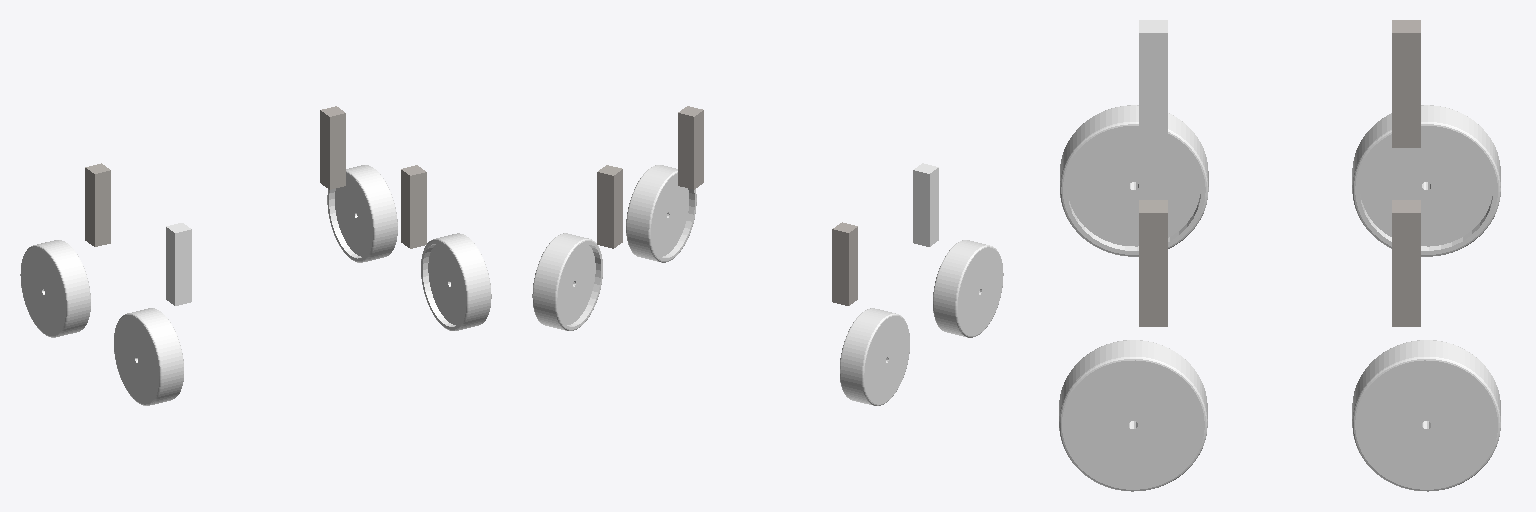
robot.urdf — Assembly1:
<?xml version="1.0" encoding="utf-8"?>
<!-- This URDF was automatically created by SolidWorks to URDF Exporter! Originally created by [author] ([email redacted]) 
     Commit Version: 1.5.1-0-g916b5db  Build Version: 1.5.7152.31018
     For more information, please see http://wiki.ros.org/sw_urdf_exporter -->
<robot
  name="Assembly1">
  <link
    name="base_link">
    <inertial>
      <origin
        xyz="-0.100597257345596 -0.129757044474915 0.0549310842293665"
        rpy="0 0 0" />
      <mass
        value="6.58740289372305" />
      <inertia
        ixx="0.0225587082732327"
        ixy="8.13913545593294E-07"
        ixz="3.26941188513551E-07"
        iyy="0.0144068288002428"
        iyz="-1.53624510966807E-05"
        izz="0.0230488122879631" />
    </inertial>
    <visual>
      <origin
        xyz="0 0 0"
        rpy="0 0 0" />
      <geometry>
        <mesh
          filename="package://Assembly1/meshes/base_link.STL" />
      </geometry>
      <material
        name="">
        <color
          rgba="0.752941176470588 0.752941176470588 0.752941176470588 1" />
      </material>
    </visual>
    <collision>
      <origin
        xyz="0 0 0"
        rpy="0 0 0" />
      <geometry>
        <mesh
          filename="package://Assembly1/meshes/base_link.STL" />
      </geometry>
    </collision>
  </link>
  <link
    name="RFW">
    <inertial>
      <origin
        xyz="0.017684275425927 0 0"
        rpy="0 0 0" />
      <mass
        value="0.193585420779862" />
      <inertia
        ixx="0.000253081141332253"
        ixy="1.25565046615467E-23"
        ixz="5.48767614514601E-21"
        iyy="0.000136818598566516"
        iyz="4.2351647362715E-22"
        izz="0.000136818598566517" />
    </inertial>
    <visual>
      <origin
        xyz="0 0 0"
        rpy="0 0 0" />
      <geometry>
        <mesh
          filename="package://Assembly1/meshes/RFW.STL" />
      </geometry>
      <material
        name="">
        <color
          rgba="1 1 1 1" />
      </material>
    </visual>
    <collision>
      <origin
        xyz="0 0 0"
        rpy="0 0 0" />
      <geometry>
        <mesh
          filename="package://Assembly1/meshes/RFW.STL" />
      </geometry>
    </collision>
  </link>
  <joint
    name="RFW"
    type="continuous">
    <origin
      xyz="0.0717526295870665 -0.0213991318329796 -0.0348013967668192"
      rpy="1.60341860825238 0 0" />
    <parent
      link="base_link" />
    <child
      link="RFW" />
    <axis
      xyz="1 0 0" />
    <limit
      effort="3.1"
      velocity="7" />
  </joint>
  <link
    name="LFW">
    <inertial>
      <origin
        xyz="0.0176842754259272 4.85722573273506E-17 1.38777878078145E-17"
        rpy="0 0 0" />
      <mass
        value="0.193585420779862" />
      <inertia
        ixx="0.000253081141332254"
        ixy="2.77461999194458E-19"
        ixz="1.02934546112711E-19"
        iyy="0.000136818598566517"
        iyz="-1.01643953670516E-20"
        izz="0.000136818598566517" />
    </inertial>
    <visual>
      <origin
        xyz="0 0 0"
        rpy="0 0 0" />
      <geometry>
        <mesh
          filename="package://Assembly1/meshes/LFW.STL" />
      </geometry>
      <material
        name="">
        <color
          rgba="1 1 1 1" />
      </material>
    </visual>
    <collision>
      <origin
        xyz="0 0 0"
        rpy="0 0 0" />
      <geometry>
        <mesh
          filename="package://Assembly1/meshes/LFW.STL" />
      </geometry>
    </collision>
  </link>
  <joint
    name="LFW"
    type="continuous">
    <origin
      xyz="-0.271747370412951 -0.0213991318329767 -0.034802969642082"
      rpy="-0.39179641218951 0 3.14159265358979" />
    <parent
      link="base_link" />
    <child
      link="LFW" />
    <axis
      xyz="1 0 0" />
    <limit
      effort="3.1"
      velocity="7" />
  </joint>
  <link
    name="RBW">
    <inertial>
      <origin
        xyz="0.017684 -1.3878E-17 2.7756E-17"
        rpy="0 0 0" />
      <mass
        value="0.19359" />
      <inertia
        ixx="0.00025308"
        ixy="-2.9665E-22"
        ixz="5.6131E-21"
        iyy="0.00013682"
        iyz="-6.7763E-21"
        izz="0.00013682" />
    </inertial>
    <visual>
      <origin
        xyz="0 0 0"
        rpy="0 0 0" />
      <geometry>
        <mesh
          filename="package://Assembly1/meshes/RBW.STL" />
      </geometry>
      <material
        name="">
        <color
          rgba="1 1 1 1" />
      </material>
    </visual>
    <collision>
      <origin
        xyz="0 0 0"
        rpy="0 0 0" />
      <geometry>
        <mesh
          filename="package://Assembly1/meshes/RBW.STL" />
      </geometry>
    </collision>
  </link>
  <joint
    name="RBW"
    type="continuous">
    <origin
      xyz="0.0717526295870657 -0.218599131832979 -0.0348029696420729"
      rpy="1.20549109022013 0 0" />
    <parent
      link="base_link" />
    <child
      link="RBW" />
    <axis
      xyz="1 0 0" />
    <limit
      effort="3.1"
      velocity="7" />
  </joint>
  <link
    name="LBW">
    <inertial>
      <origin
        xyz="0.017684 0 0"
        rpy="0 0 0" />
      <mass
        value="0.19359" />
      <inertia
        ixx="0.00025308"
        ixy="1.711E-20"
        ixz="-3.2823E-21"
        iyy="0.00013682"
        iyz="-1.3553E-20"
        izz="0.00013682" />
    </inertial>
    <visual>
      <origin
        xyz="0 0 0"
        rpy="0 0 0" />
      <geometry>
        <mesh
          filename="package://Assembly1/meshes/LBW.STL" />
      </geometry>
      <material
        name="">
        <color
          rgba="1 1 1 1" />
      </material>
    </visual>
    <collision>
      <origin
        xyz="0 0 0"
        rpy="0 0 0" />
      <geometry>
        <mesh
          filename="package://Assembly1/meshes/LBW.STL" />
      </geometry>
    </collision>
  </link>
  <joint
    name="LBW"
    type="continuous">
    <origin
      xyz="-0.27175 -0.218 -0.034801"
      rpy="-0.3918 0 3.1416" />
    <parent
      link="base_link" />
    <child
      link="LBW" />
    <axis
      xyz="1 0 0" />
    <limit
      effort="3.1"
      velocity="7" />
  </joint>
  <link
    name="RFS">
    <inertial>
      <origin
        xyz="0 -6.9389E-17 -0.0425"
        rpy="0 0 0" />
      <mass
        value="0.2618" />
      <inertia
        ixx="0.00016635"
        ixy="2.1661E-22"
        ixz="2.5566E-20"
        iyy="0.00016635"
        iyz="-2.5289E-19"
        izz="1.7453E-05" />
    </inertial>
    <visual>
      <origin
        xyz="0 0 0"
        rpy="0 0 0" />
      <geometry>
        <mesh
          filename="package://Assembly1/meshes/RFS.STL" />
      </geometry>
      <material
        name="">
        <color
          rgba="0.77647 0.75686 0.73725 1" />
      </material>
    </visual>
    <collision>
      <origin
        xyz="0 0 0"
        rpy="0 0 0" />
      <geometry>
        <mesh
          filename="package://Assembly1/meshes/RFS.STL" />
      </geometry>
    </collision>
  </link>
  <joint
    name="RFS"
    type="fixed">
    <origin
      xyz="0.043003 -0.034999 0.014998"
      rpy="-3.1416 0 1.5708" />
    <parent
      link="base_link" />
    <child
      link="RFS" />
    <axis
      xyz="0 0 0" />
  </joint>
  <link
    name="LFS">
    <inertial>
      <origin
        xyz="0 -6.9389E-18 0.0425"
        rpy="0 0 0" />
      <mass
        value="0.2618" />
      <inertia
        ixx="0.00016635"
        ixy="2.5265E-21"
        ixz="-1.0151E-19"
        iyy="0.00016635"
        iyz="1.4542E-20"
        izz="1.7453E-05" />
    </inertial>
    <visual>
      <origin
        xyz="0 0 0"
        rpy="0 0 0" />
      <geometry>
        <mesh
          filename="package://Assembly1/meshes/LFS.STL" />
      </geometry>
      <material
        name="">
        <color
          rgba="0.77647 0.75686 0.73725 1" />
      </material>
    </visual>
    <collision>
      <origin
        xyz="0 0 0"
        rpy="0 0 0" />
      <geometry>
        <mesh
          filename="package://Assembly1/meshes/LFS.STL" />
      </geometry>
    </collision>
  </link>
  <joint
    name="LFS"
    type="fixed">
    <origin
      xyz="-0.243 -0.034999 0.099998"
      rpy="3.1416 0 0" />
    <parent
      link="base_link" />
    <child
      link="LFS" />
    <axis
      xyz="0 0 0" />
  </joint>
  <link
    name="RBS">
    <inertial>
      <origin
        xyz="0 0 -0.0425"
        rpy="0 0 0" />
      <mass
        value="0.2618" />
      <inertia
        ixx="0.00016635"
        ixy="-1.6847E-21"
        ixz="-2.2739E-20"
        iyy="0.00016635"
        iyz="-1.3114E-20"
        izz="1.7453E-05" />
    </inertial>
    <visual>
      <origin
        xyz="0 0 0"
        rpy="0 0 0" />
      <geometry>
        <mesh
          filename="package://Assembly1/meshes/RBS.STL" />
      </geometry>
      <material
        name="">
        <color
          rgba="0.77647 0.75686 0.73725 1" />
      </material>
    </visual>
    <collision>
      <origin
        xyz="0 0 0"
        rpy="0 0 0" />
      <geometry>
        <mesh
          filename="package://Assembly1/meshes/RBS.STL" />
      </geometry>
    </collision>
  </link>
  <joint
    name="RBS"
    type="fixed">
    <origin
      xyz="0.043003 -0.205 0.014998"
      rpy="-3.1416 0 -1.5708" />
    <parent
      link="base_link" />
    <child
      link="RBS" />
    <axis
      xyz="0 0 0" />
  </joint>
  <link
    name="LBS">
    <inertial>
      <origin
        xyz="0 -6.9389E-18 0.0425"
        rpy="0 0 0" />
      <mass
        value="0.2618" />
      <inertia
        ixx="0"
        ixy="0"
        ixz="0"
        iyy="0"
        iyz="0"
        izz="0" />
    </inertial>
    <visual>
      <origin
        xyz="0 0 0"
        rpy="0 0 0" />
      <geometry>
        <mesh
          filename="package://Assembly1/meshes/LBS.STL" />
      </geometry>
      <material
        name="">
        <color
          rgba="1 1 1 1" />
      </material>
    </visual>
    <collision>
      <origin
        xyz="0 0 0"
        rpy="0 0 0" />
      <geometry>
        <mesh
          filename="package://Assembly1/meshes/LBS.STL" />
      </geometry>
    </collision>
  </link>
  <joint
    name="LBS"
    type="fixed">
    <origin
      xyz="-0.243 -0.205 0.099998"
      rpy="3.1416 0 0" />
    <parent
      link="base_link" />
    <child
      link="LBS" />
    <axis
      xyz="0 0 0" />
  </joint>
</robot>

--- Render facts (derived) ---
3 views of the same robot in one strip: view 1: azimuth 30°, elevation 25°; view 2: azimuth 150°, elevation 25°; view 3: azimuth 270°, elevation 25° (orthographic).
Model Assembly1 with 9 links and 8 joints (4 continuous, 4 fixed), rooted at base_link, posed every joint at zero.
Links seen in each view (by area): view 1: RBW, LFW, LBW, RFW, RBS, LFS, RFS, LBS; view 2: LBW, RFW, LFW, RBW, LBS, LFS, RFS, RBS; view 3: RFW, RBW, LFW, LBW, LFS, LBS, RFS, RBS.
Boxes of the visible links, left/top/right/bottom form: RBW: left=421, top=233, right=491, bottom=330; LFW: left=20, top=240, right=90, bottom=337; LBW: left=114, top=308, right=183, bottom=405; RFW: left=327, top=165, right=397, bottom=262; RBS: left=401, top=165, right=426, bottom=248; LFS: left=85, top=163, right=110, bottom=246; RFS: left=320, top=106, right=345, bottom=189; LBS: left=166, top=223, right=191, bottom=305; LBW: left=933, top=240, right=1003, bottom=337; RFW: left=532, top=233, right=602, bottom=330; LFW: left=840, top=308, right=909, bottom=405; RBW: left=626, top=165, right=696, bottom=262; LBS: left=913, top=163, right=938, bottom=246; LFS: left=832, top=222, right=857, bottom=305; RFS: left=597, top=165, right=622, bottom=248; RBS: left=678, top=106, right=703, bottom=189; RFW: left=1352, top=340, right=1500, bottom=491; RBW: left=1059, top=340, right=1207, bottom=491; LFW: left=1352, top=105, right=1500, bottom=256; LBW: left=1060, top=105, right=1208, bottom=256; LFS: left=1392, top=20, right=1420, bottom=147; LBS: left=1139, top=20, right=1167, bottom=147; RFS: left=1392, top=200, right=1420, bottom=326; RBS: left=1139, top=200, right=1167, bottom=326.
Size in the robot's own frame: 0.4035 by 0.2972 by 0.1848 metres.
Meshes: 9 distinct files referenced, 8 mesh visuals loaded (8 binary STL); not drawn: 1 (reference not matched to a file when rendering).